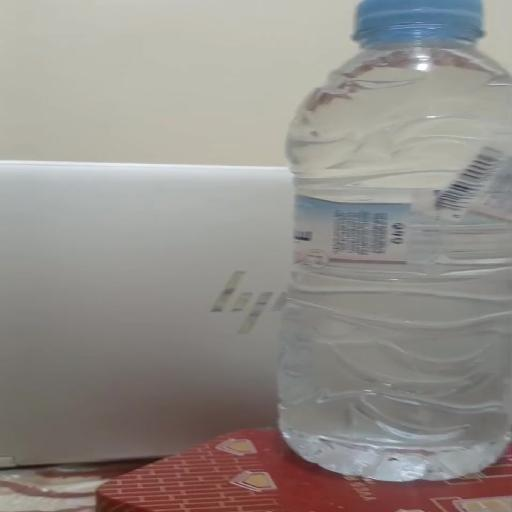bouteille conformite: (255, 0, 512, 491)
